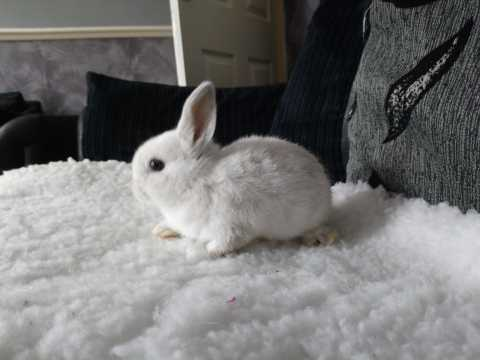bunny: (117, 73, 359, 269)
